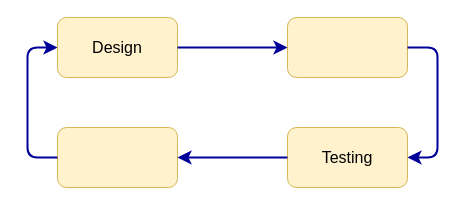
Image size: 465x205. Some labels were removed from this diagram. The shapes that lost their labels are listed below. From the top down, each one's box as (x1, y1, x2, y2) in pixels, then its label:
(286, 16, 408, 78): Implementation
(56, 126, 178, 188): Deployment
